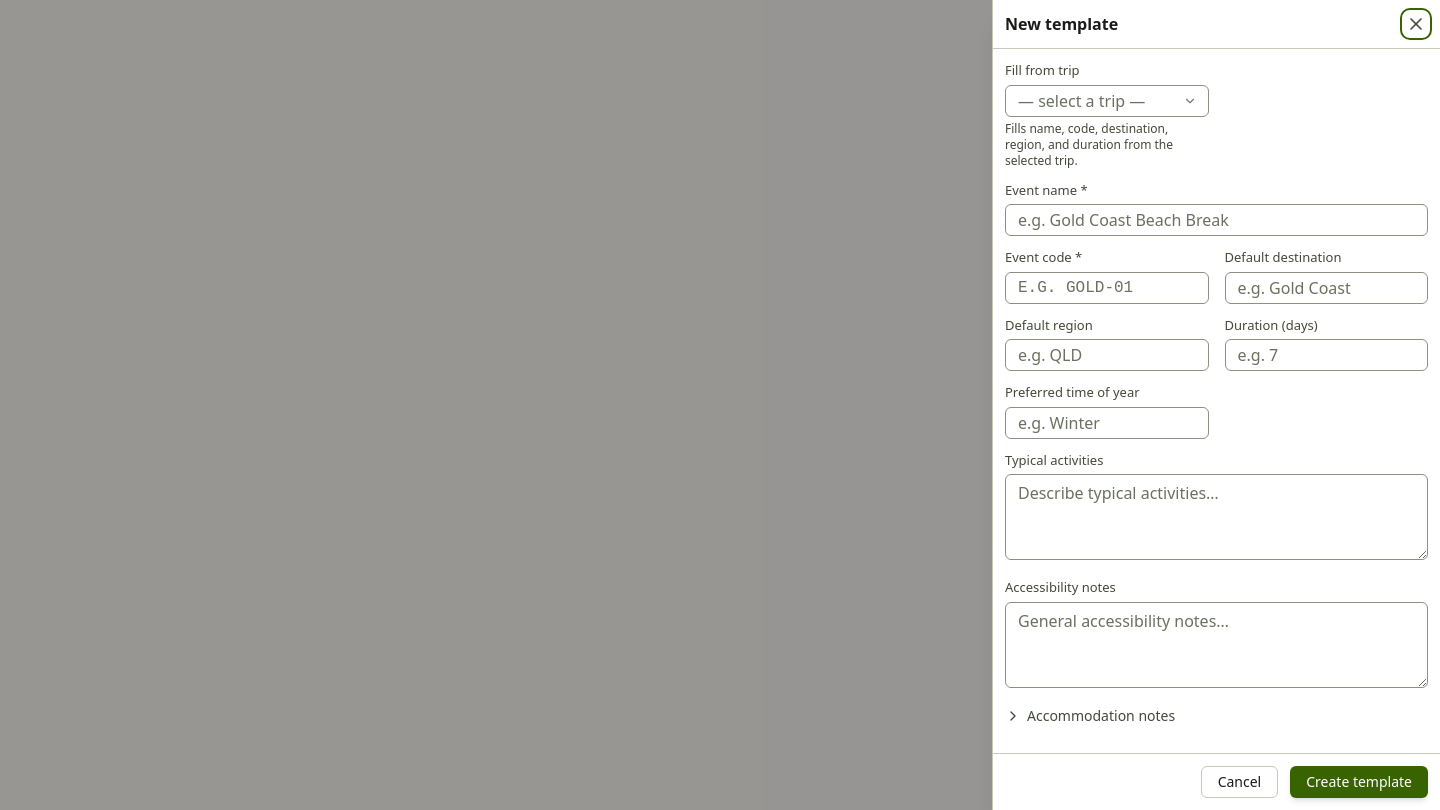
Test case: TemplateFormPanel as a dialog › picking a trip in "Fill from trip" counts as an edit, though the form is re-seeded
The width and height of the screenshot is (1440, 810).
Click the dropdown labelled "Fill from trip" at (1107, 100), box [1005,84,1208,116]
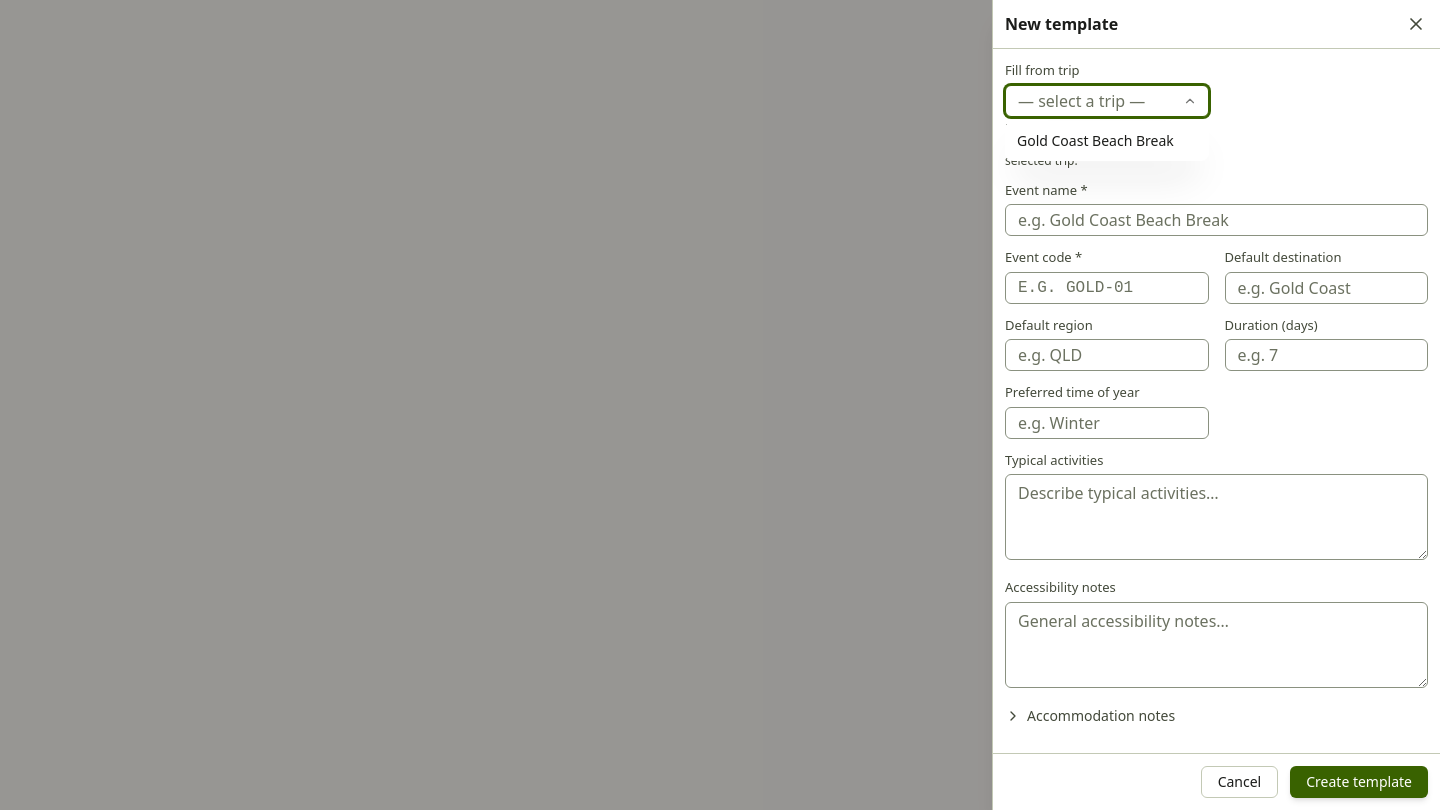
Click the option "Gold Coast Beach Break" at (1095, 140), box [1017,130,1174,150]
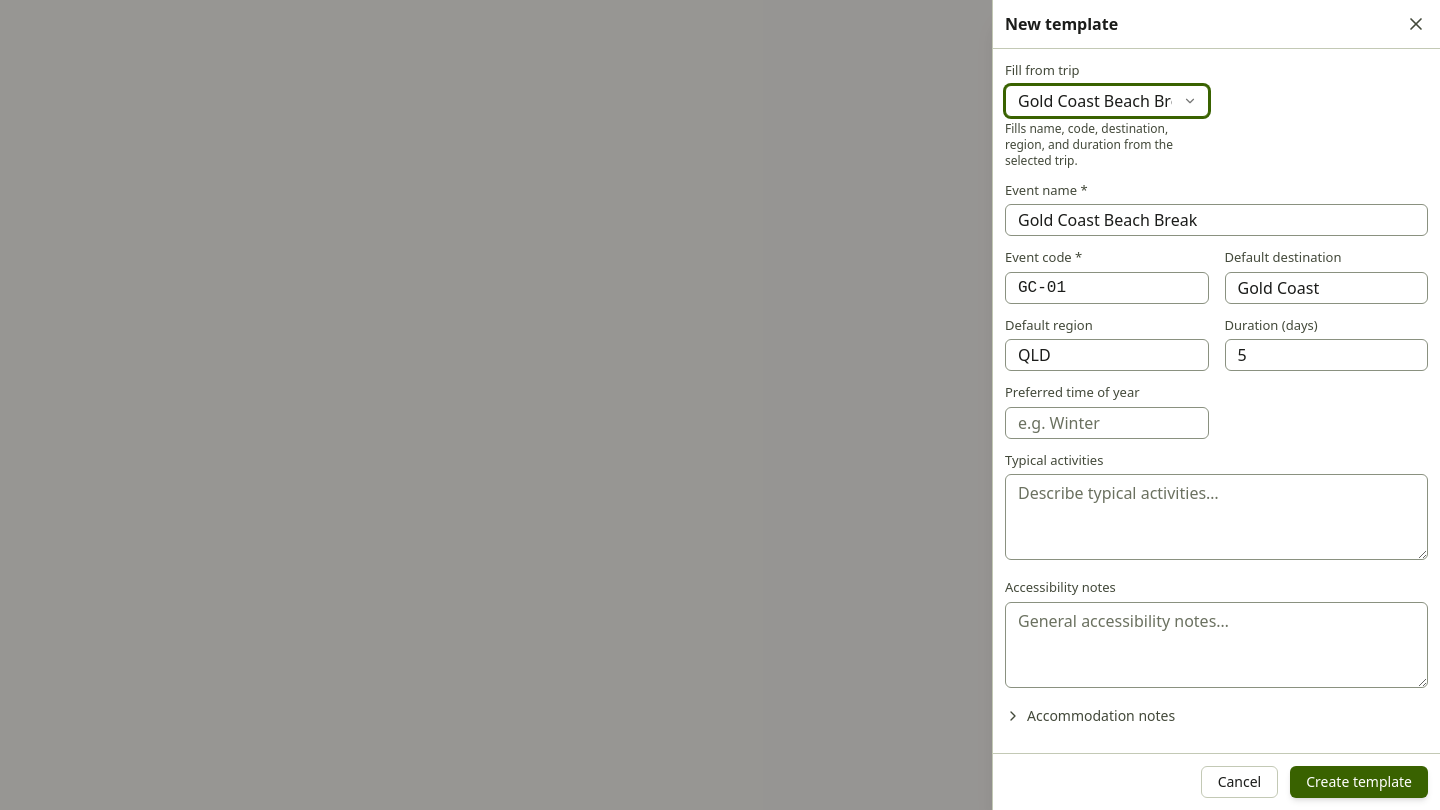
Expected: the field labelled "Event code *" holds "GC-01", [1005,272,1208,304]
Press Escape
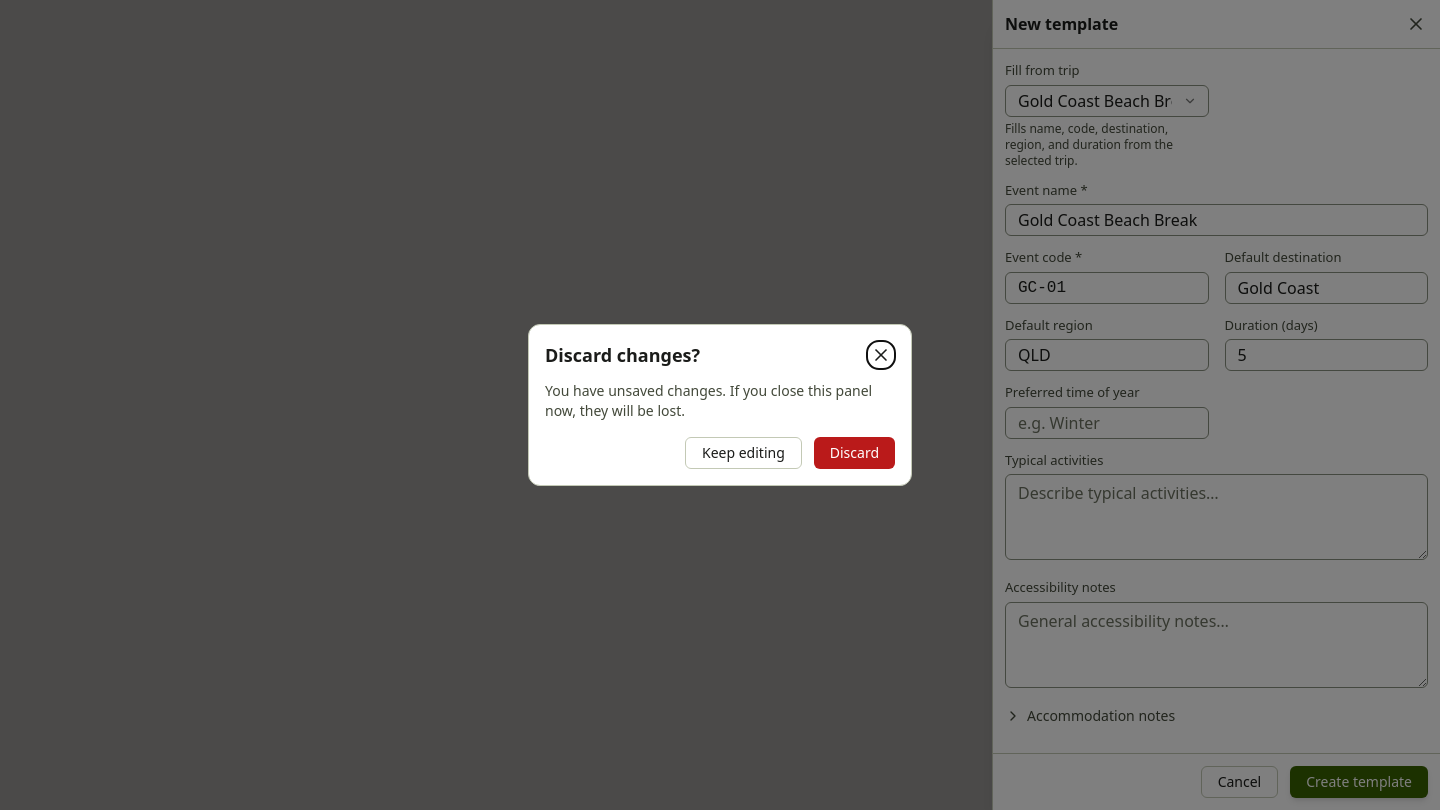
Expected: the dialog "Discard changes?" is shown, [528,324,912,486]
